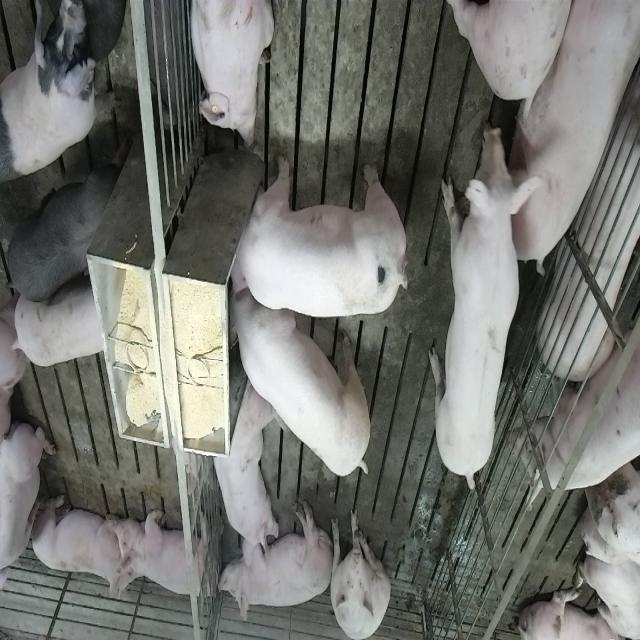Feeding: (228, 154, 414, 320), (228, 282, 376, 480)
Lateral_lying: (510, 0, 640, 273), (216, 498, 334, 625)
Sitting: (328, 506, 391, 638)
Standing: (428, 164, 527, 494), (520, 297, 640, 503), (2, 139, 128, 303), (2, 36, 118, 190), (11, 281, 108, 367)
Sternal_lying: (187, 0, 275, 151), (207, 380, 273, 570), (28, 490, 129, 598), (112, 502, 216, 602), (3, 418, 55, 604)
